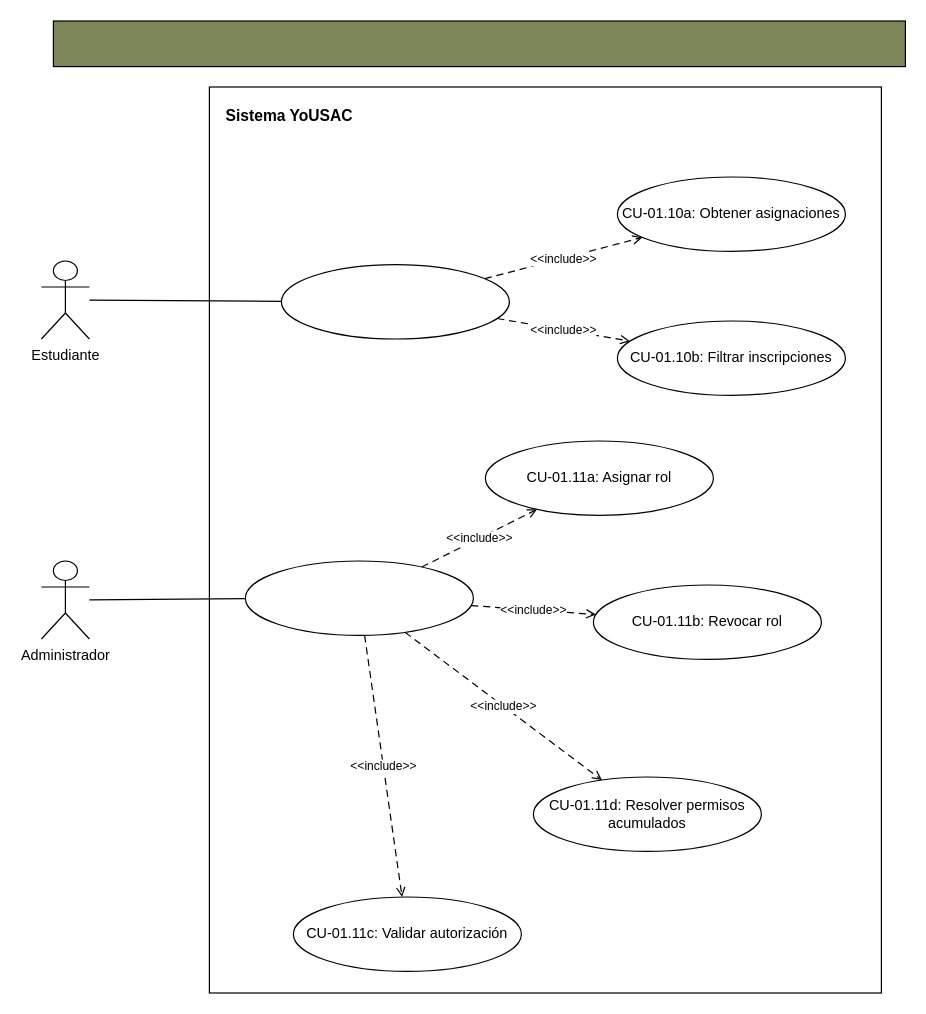
Some shapes in this 926 by 1014 pixel diagram are drawn without their labels. The shapes that lost their labels are listed below. From the top down, each one's box as (x1, y1, x2, y2) in pixels, then its label:
(52, 20, 905, 67): Descomposición por módulo — Asignaciones y permisos
(280, 263, 509, 339): CU-01.10: Consultar cursos inscritos
(244, 560, 473, 635): CU-01.11: Gestionar roles y permisos
